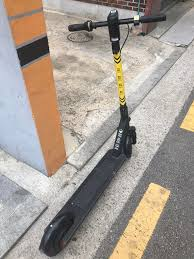kick_board: (38, 9, 166, 255)
kick_handler: (69, 9, 166, 39)
kick_neck: (112, 45, 132, 124)
kick_wheel: (42, 216, 73, 255), (122, 127, 136, 158)
